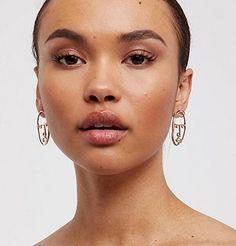no_mask: (33, 7, 189, 171)
